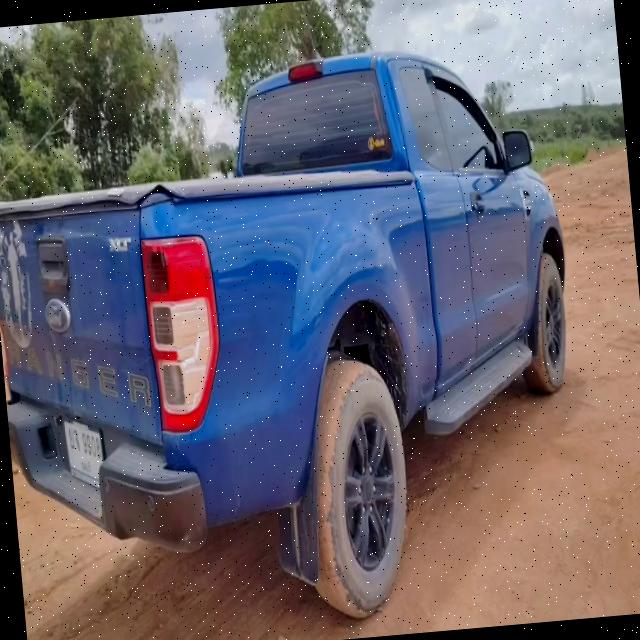Digit: (81, 429, 102, 460)
Licenseplate: (62, 416, 108, 493)
Provincename: (78, 460, 92, 478)
Thaichar: (67, 426, 80, 450)
